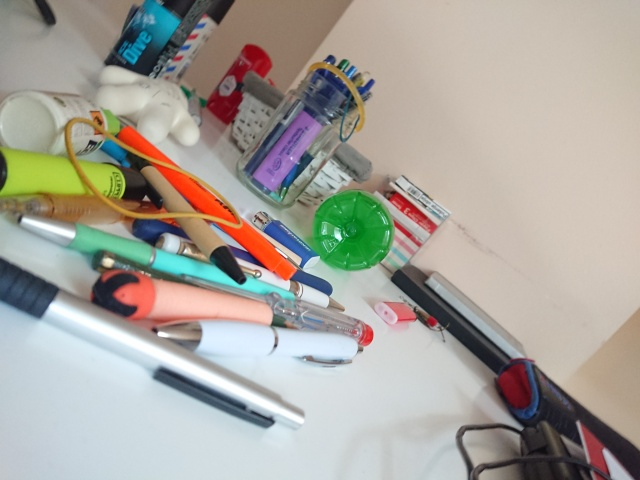Vindi Iso Sport Lemon-Grapefruit 500mL: (310, 187, 398, 274)
